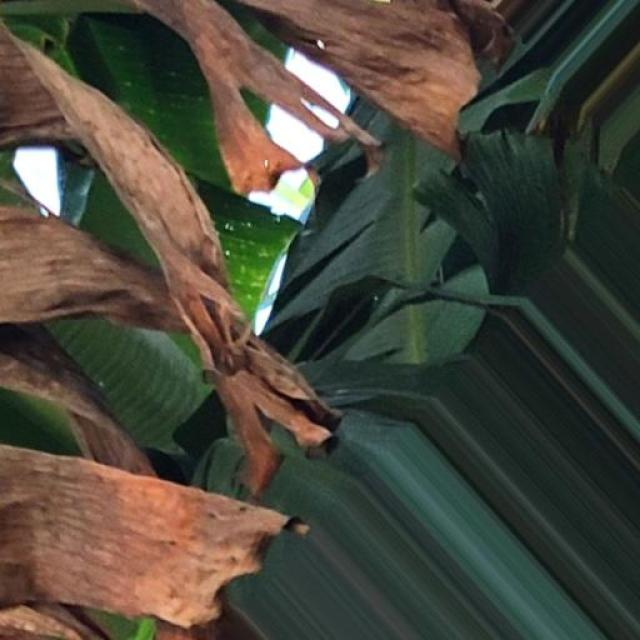Bract_mosaic_virus: (0, 3, 364, 640), (125, 0, 502, 194)
